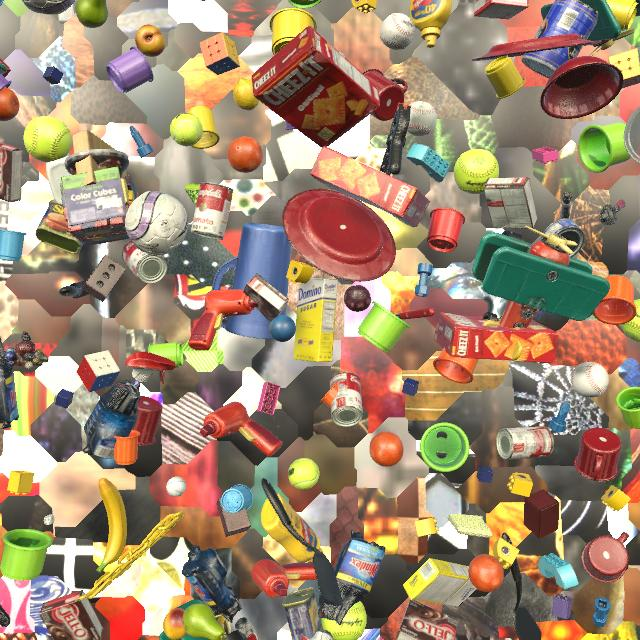ycb_002_master_chef_can: (521, 0, 598, 78)
ycb_003_cracker_box: (251, 25, 380, 148), (310, 146, 430, 227), (434, 313, 559, 363), (0, 59, 11, 78)
ycb_004_sugar_box: (294, 278, 338, 362), (403, 558, 476, 607)
ycb_005_tomato_soup_can: (191, 182, 234, 240), (122, 240, 167, 284), (496, 426, 554, 460), (329, 371, 363, 427)
ycb_006_mustard_bottle: (261, 493, 323, 563), (410, 0, 452, 48)
ycb_007_tuna_fish_can: (541, 219, 585, 257)
ycb_008_pudding_box: (39, 590, 103, 640), (484, 177, 538, 228), (396, 600, 459, 640), (243, 273, 289, 322), (0, 142, 23, 203)
ycb_009_gelatin_box: (474, 0, 529, 19)
ycb_010_potted_meat_can: (36, 200, 83, 254), (282, 587, 322, 640)
ycb_011_banana: (97, 478, 127, 573)
ycb_014_lemon: (233, 78, 259, 110)
ycb_015_peach: (135, 25, 166, 57), (163, 608, 187, 640)
ycb_016_pear: (183, 603, 225, 640), (75, 0, 108, 28)
ycb_017_orange: (468, 554, 504, 592), (227, 137, 263, 173), (369, 431, 404, 467), (0, 87, 19, 121)
ycb_018_plum: (344, 285, 371, 312), (589, 310, 595, 317)
